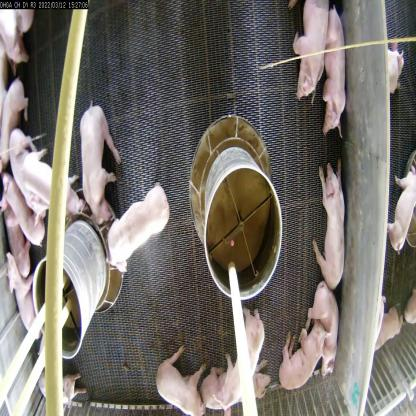Pig: (66, 76, 124, 233), (100, 184, 180, 287), (307, 141, 359, 288), (296, 281, 360, 378), (23, 147, 90, 231), (218, 304, 276, 401), (0, 165, 49, 267), (151, 337, 211, 415), (314, 3, 346, 134), (293, 0, 329, 108), (204, 357, 266, 415), (4, 246, 39, 340), (283, 326, 326, 401)
